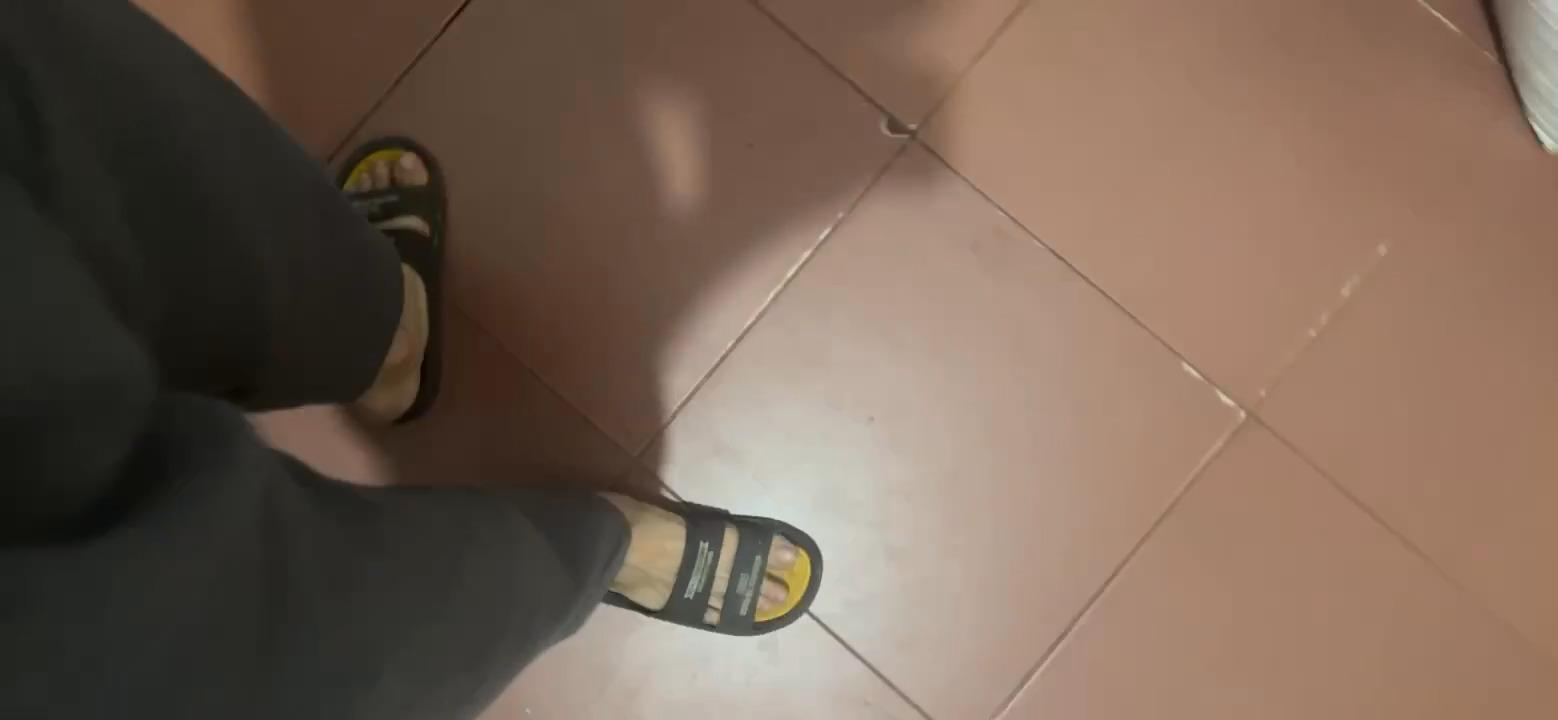no-boot: (539, 475, 825, 656), (333, 133, 458, 433)
